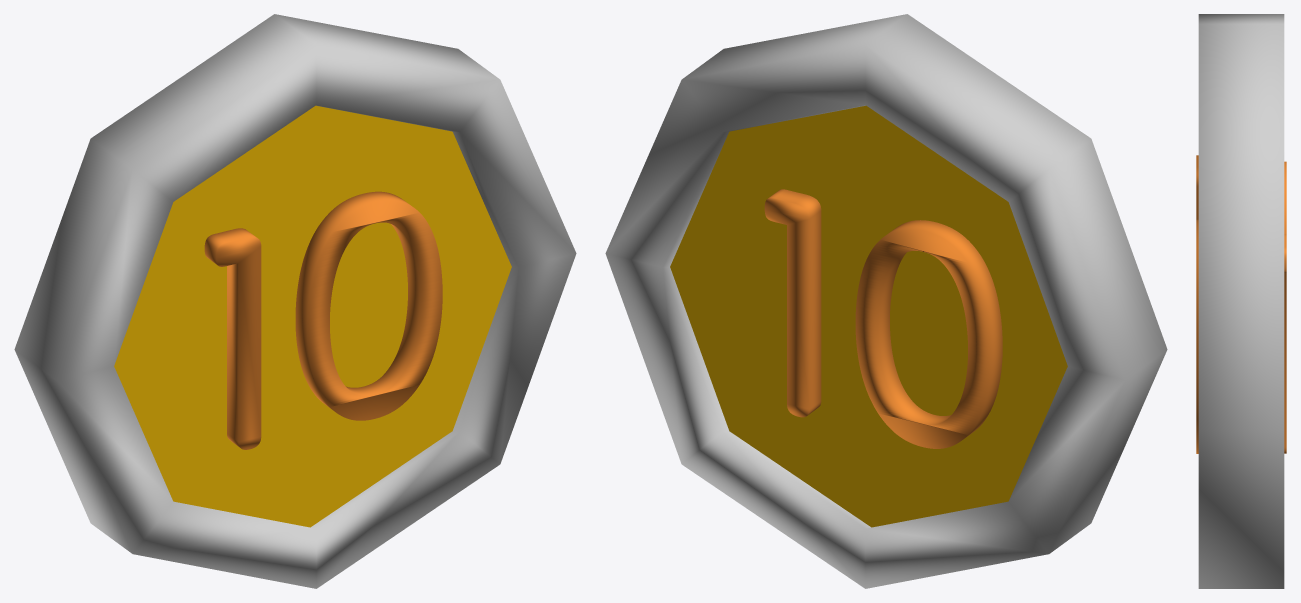
The model's file is coin_10.fbx.
3 views of the same model, side by side, from view 1: azimuth 30°, elevation 25°; view 2: azimuth 150°, elevation 25°; view 3: azimuth 270°, elevation 25° (orthographic).
Visible parts, largest first — view 1: coin 10; view 2: coin 10; view 3: coin 10.
Part boxes in pixels (bbox=[...]): coin 10: bbox=[14, 14, 576, 588]; coin 10: bbox=[605, 14, 1167, 588]; coin 10: bbox=[1196, 14, 1286, 588].
Bounding box in the file's own units: 12.85 × 12.85 × 1.89.
